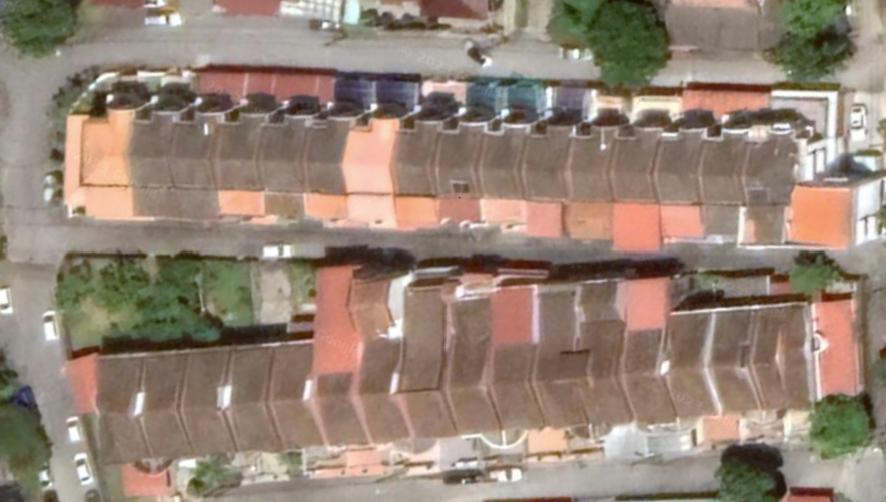building: (305, 259, 372, 482), (346, 267, 414, 482), (169, 60, 249, 228), (387, 72, 466, 241), (606, 83, 682, 256), (396, 277, 462, 476), (295, 65, 373, 233), (342, 68, 419, 236), (697, 80, 771, 251), (59, 87, 151, 224), (433, 73, 506, 242), (654, 305, 739, 450), (653, 81, 726, 248), (475, 72, 546, 241), (518, 74, 589, 241), (563, 81, 631, 245), (262, 310, 325, 486), (484, 281, 544, 461), (441, 292, 501, 468), (745, 297, 818, 441), (128, 87, 203, 227), (214, 60, 275, 232), (526, 278, 584, 458), (216, 340, 285, 491), (257, 62, 317, 235), (573, 274, 634, 444), (699, 299, 771, 442), (60, 351, 147, 468), (618, 273, 679, 432), (738, 118, 802, 252), (133, 346, 190, 479), (171, 341, 231, 464), (809, 293, 871, 409), (785, 181, 860, 253)
